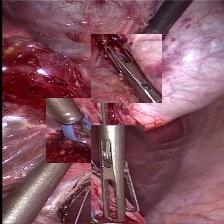Bipolar: (45, 99, 107, 163)
Grasper: (90, 126, 143, 223), (90, 34, 160, 103)
